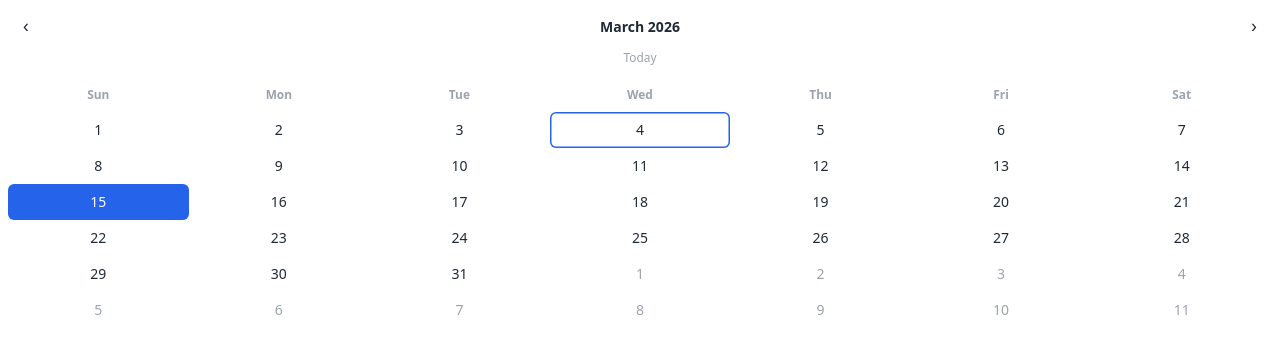
Test case: CalendarWidget quick navigation › Escape in month picker returns to day grid
Click the button with aria-label "choose month and year". click: [640, 27]
box: [592,16,688,38]
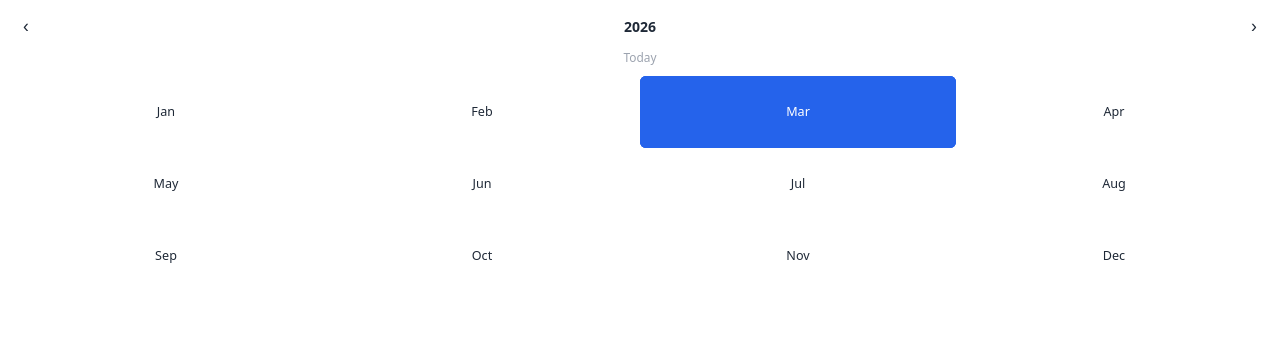
Expected: the table named "month picker" is shown
Press Escape
Press Escape in the cell "Mar", box [640,76,956,148]
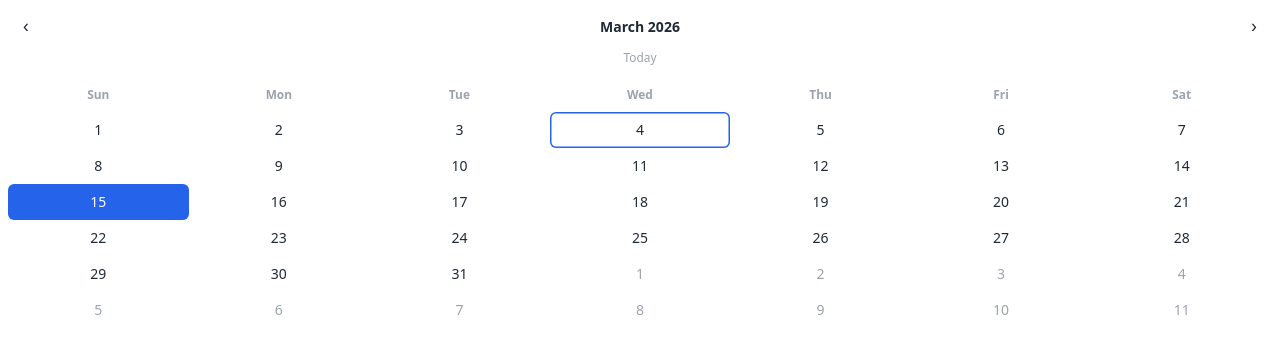
Expected: the table named "Calendar" is shown
